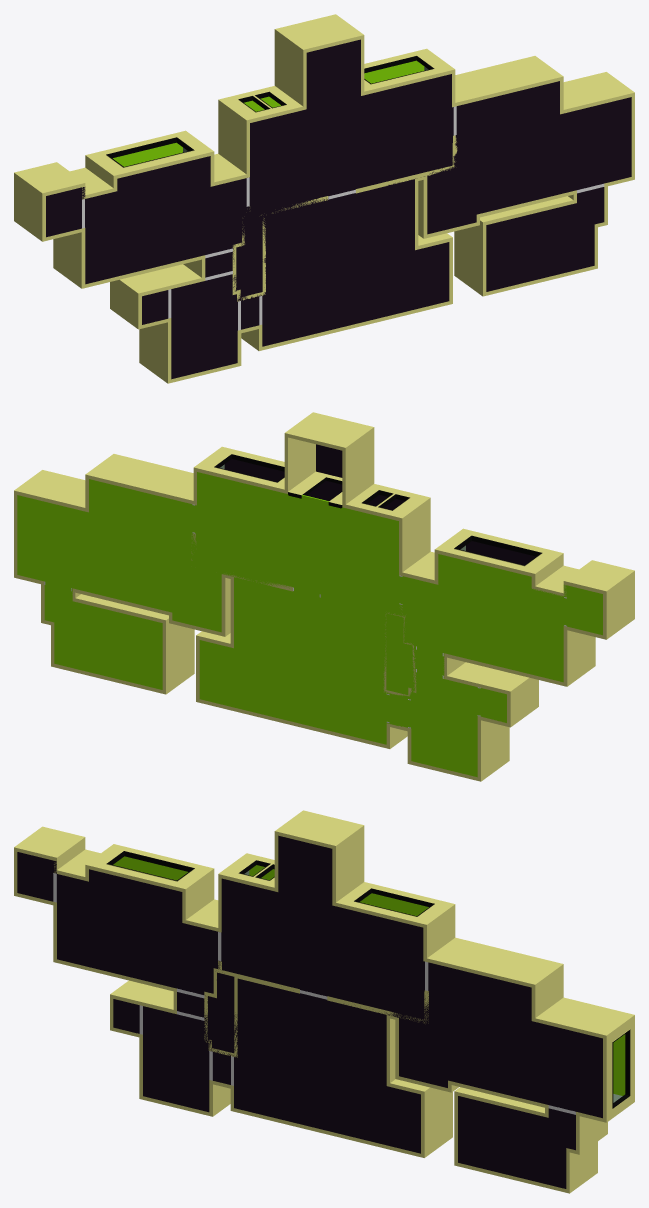
The model's file is Level 2.fbx.
The picture shows the model from 3 angles, top to bottom: view 1: azimuth 30°, elevation 25°; view 2: azimuth 150°, elevation 25°; view 3: azimuth 330°, elevation 25°; orthographic projection.
Parts seen in each view (by area): view 1: Ceiling, Plane, Floor; view 2: Floor, Plane, Ceiling; view 3: Ceiling, Plane, Floor.
Boxes of the visible parts, box(x1,y1,x2,y2) form: Ceiling: box(46, 39, 631, 379); Plane: box(14, 14, 634, 383); Floor: box(113, 60, 424, 166); Floor: box(17, 472, 602, 777); Plane: box(14, 412, 634, 781); Ceiling: box(224, 444, 535, 565); Ceiling: box(17, 835, 602, 1188); Plane: box(14, 810, 634, 1193); Floor: box(113, 856, 625, 1095).
Bounding box in the file's own units: 241 × 117 × 20.18.
